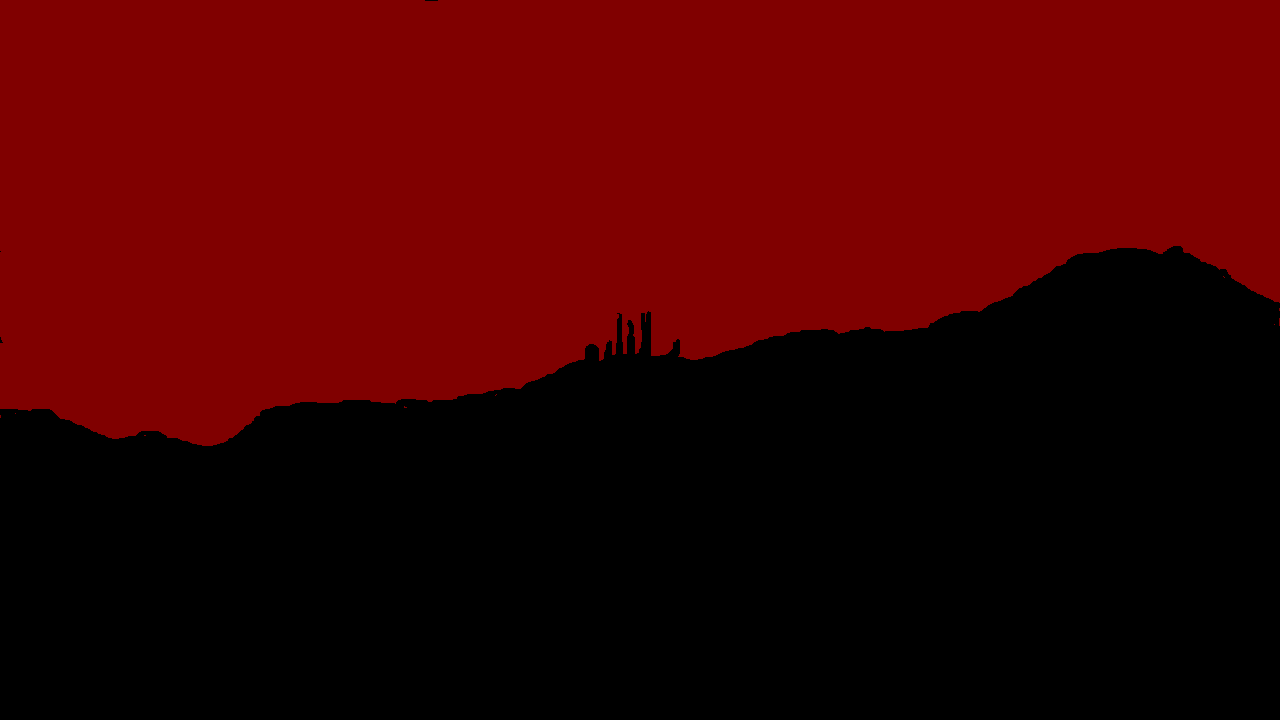Sky: (1, 1, 1279, 445)
